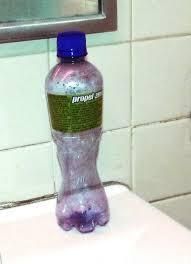Plastic bottle: (43, 29, 112, 235)
